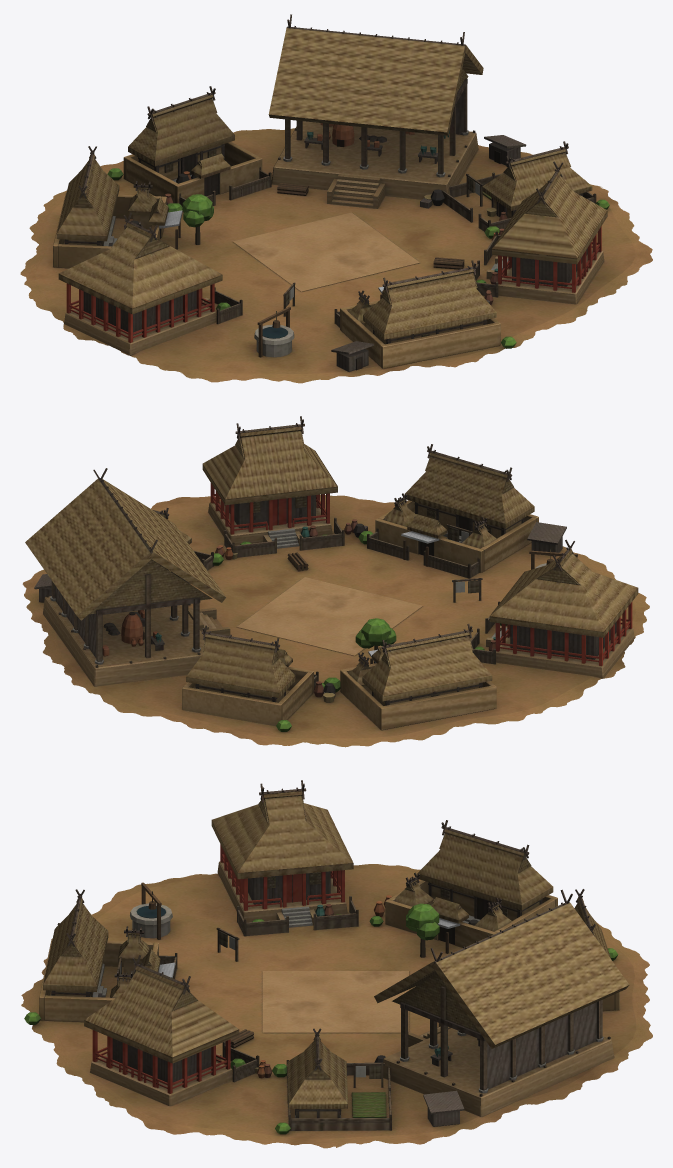
File: bronze-town-small-a-sinic.glb
3 views of the same model, one above another, from view 1: azimuth 30°, elevation 25°; view 2: azimuth 150°, elevation 25°; view 3: azimuth 270°, elevation 25° (orthographic). The views are drawn at different scales.
Parts seen in each view (by area): view 1: LOD0; view 2: LOD0; view 3: LOD0.
Part boxes in pixels (x1,y1,x2,y2): LOD0: (20,14,652,383); LOD0: (22,416,649,747); LOD0: (21,780,652,1148).
Size of what is drawn, in the model's own units: 3.98 by 0.9674 by 3.71.
3 materials, 3 textured.
